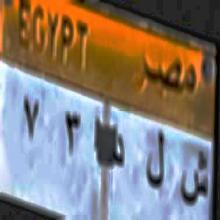3: (65, 104, 82, 161)
7: (22, 88, 40, 148)
daal: (111, 128, 126, 177)
laam: (145, 124, 166, 192)
sheen: (179, 149, 210, 210)
